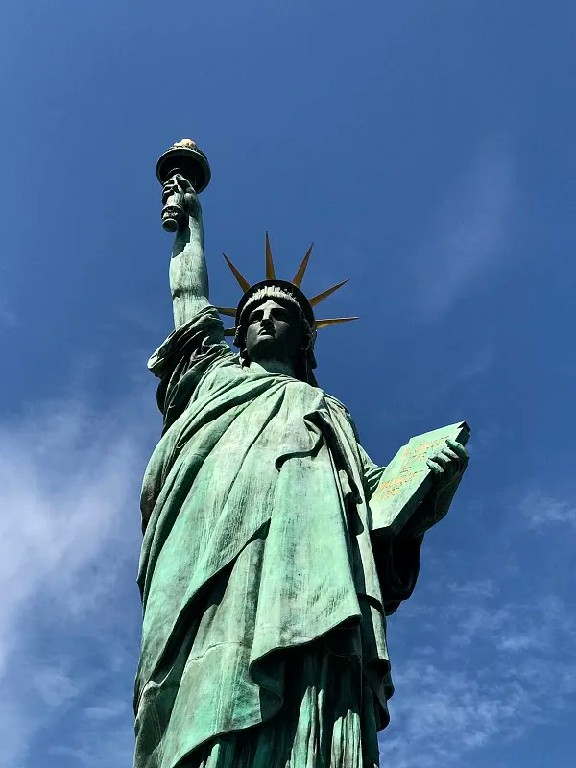SL: (133, 138, 471, 768)
